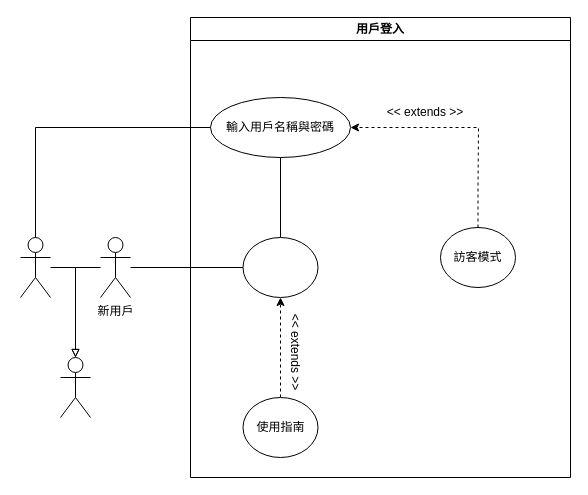
The diagram is 588 pixels wide and 495 high, and some of its shapes have lost their labels. Each missing label, with the centre of its shape:
"用戶" belongs at (75,387).
"申辦帳號" belongs at (280,267).
"舊用戶" belongs at (35,267).
